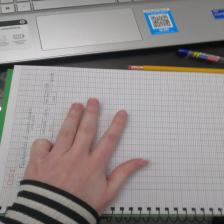five: (24, 97, 151, 197)
